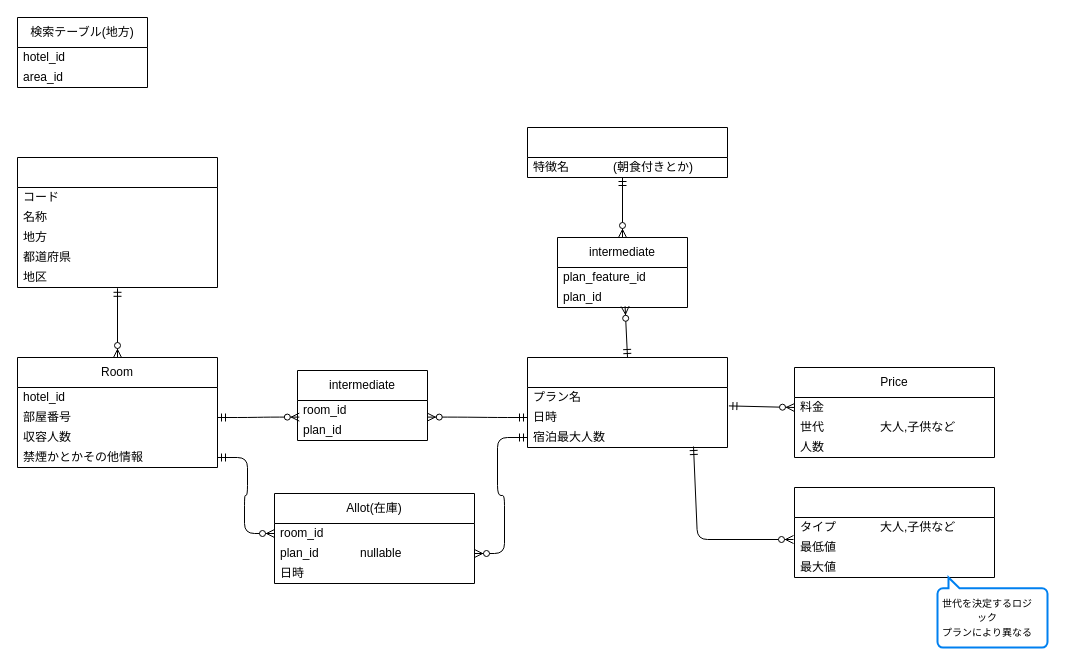
Some shapes in this 1066 by 666 pixel diagram are drawn without their labels. The shapes that lost their labels are listed below. From the top down, each one's box as (x1, y1, x2, y2) in pixels, then its label:
(526, 126, 728, 178): PlanFeature
(16, 156, 218, 288): Hotel
(526, 356, 728, 448): Plan
(794, 486, 994, 578): GenerationDeterminationLogic
